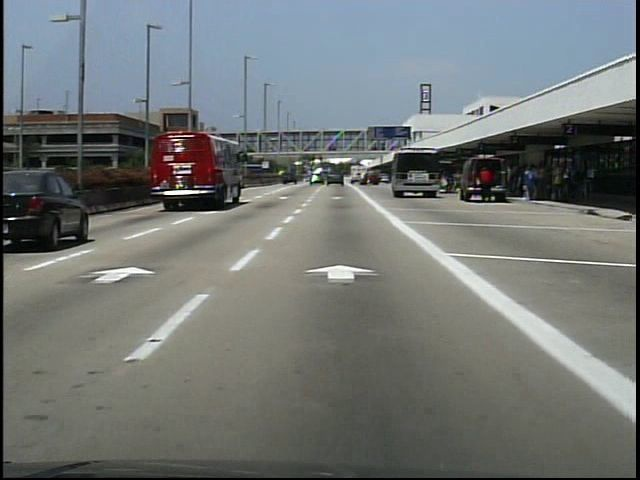person: (479, 164, 496, 205), (436, 175, 454, 197)
